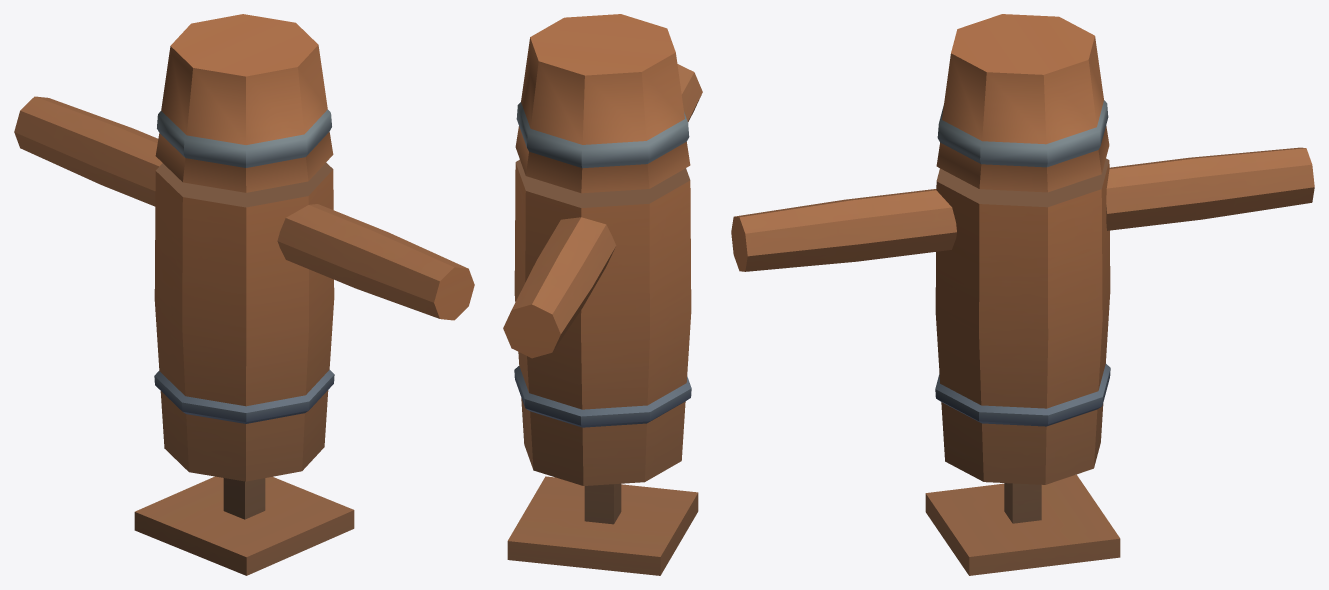
Rendered from Мишень_Фигура.1.fbx.
3 views of the same model, side by side, from view 1: azimuth 30°, elevation 25°; view 2: azimuth 150°, elevation 25°; view 3: azimuth 270°, elevation 25° (orthographic).
Parts seen in each view (by area): view 1: Мишень_Фигура_1; view 2: Мишень_Фигура_1; view 3: Мишень_Фигура_1.
Part boxes in pixels (x1,y1,x2,y2): Мишень_Фигура_1: (14, 14, 474, 575); Мишень_Фигура_1: (503, 14, 702, 575); Мишень_Фигура_1: (731, 14, 1314, 575).
Size of the model in its own units: 22.37 by 54.83 by 59.13.
